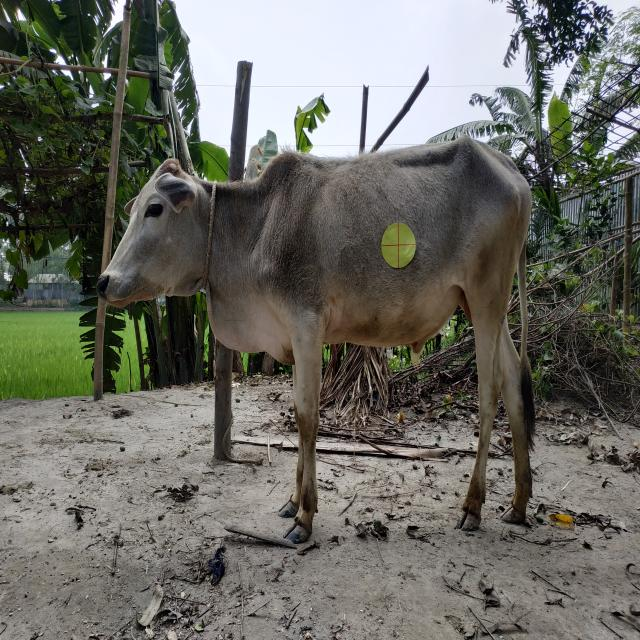badan_sapi: (258, 159, 532, 352)
sapi: (95, 133, 560, 545)
